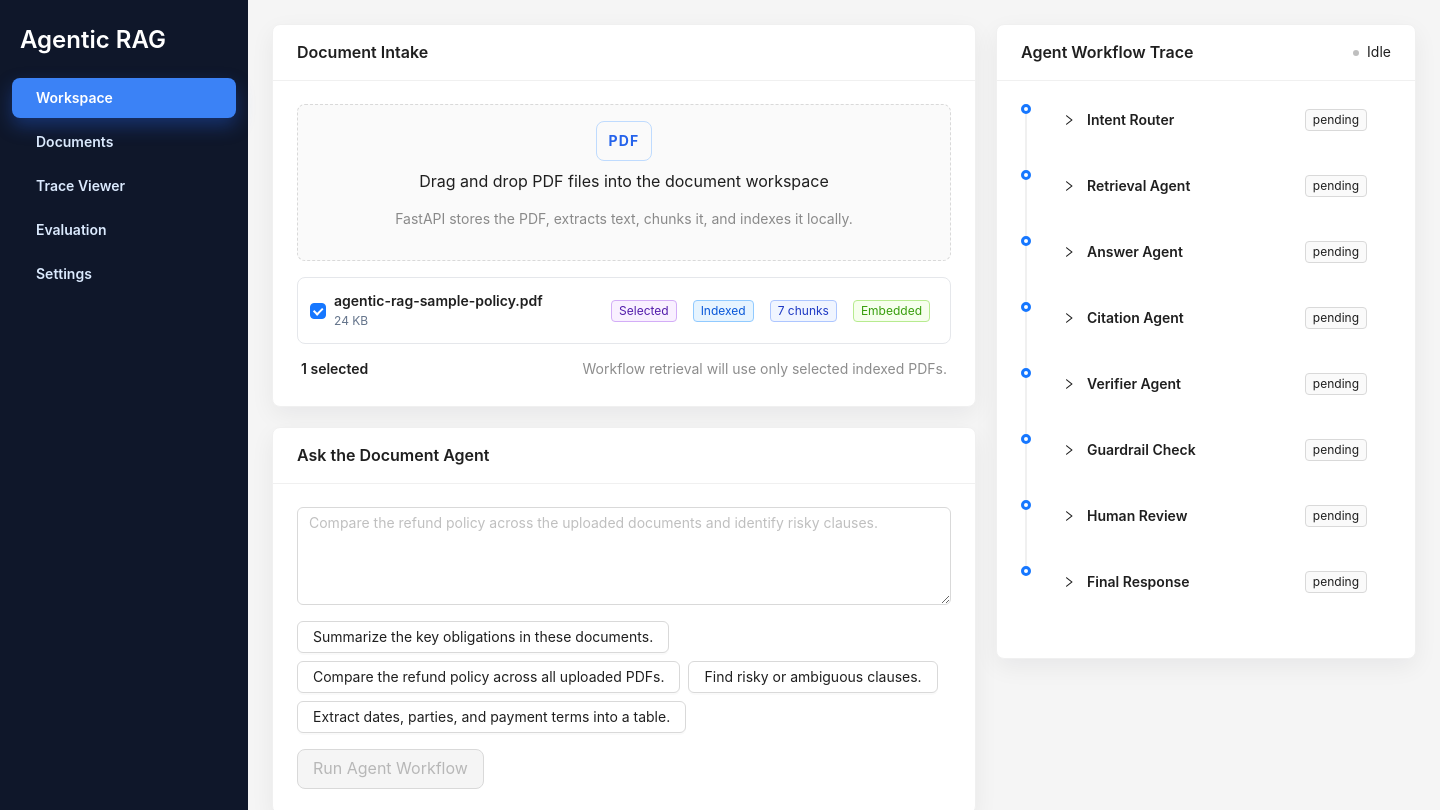
Test: shows a failed workflow state when the agent run request fails
Expected: the text "agentic-rag-sample-policy.pdf" is shown, [334,292,543,309]
Replace the text in the text box with placeholder "Compare the refund policy" with "Find risky refund clauses": (624, 556) [297,507,951,605]
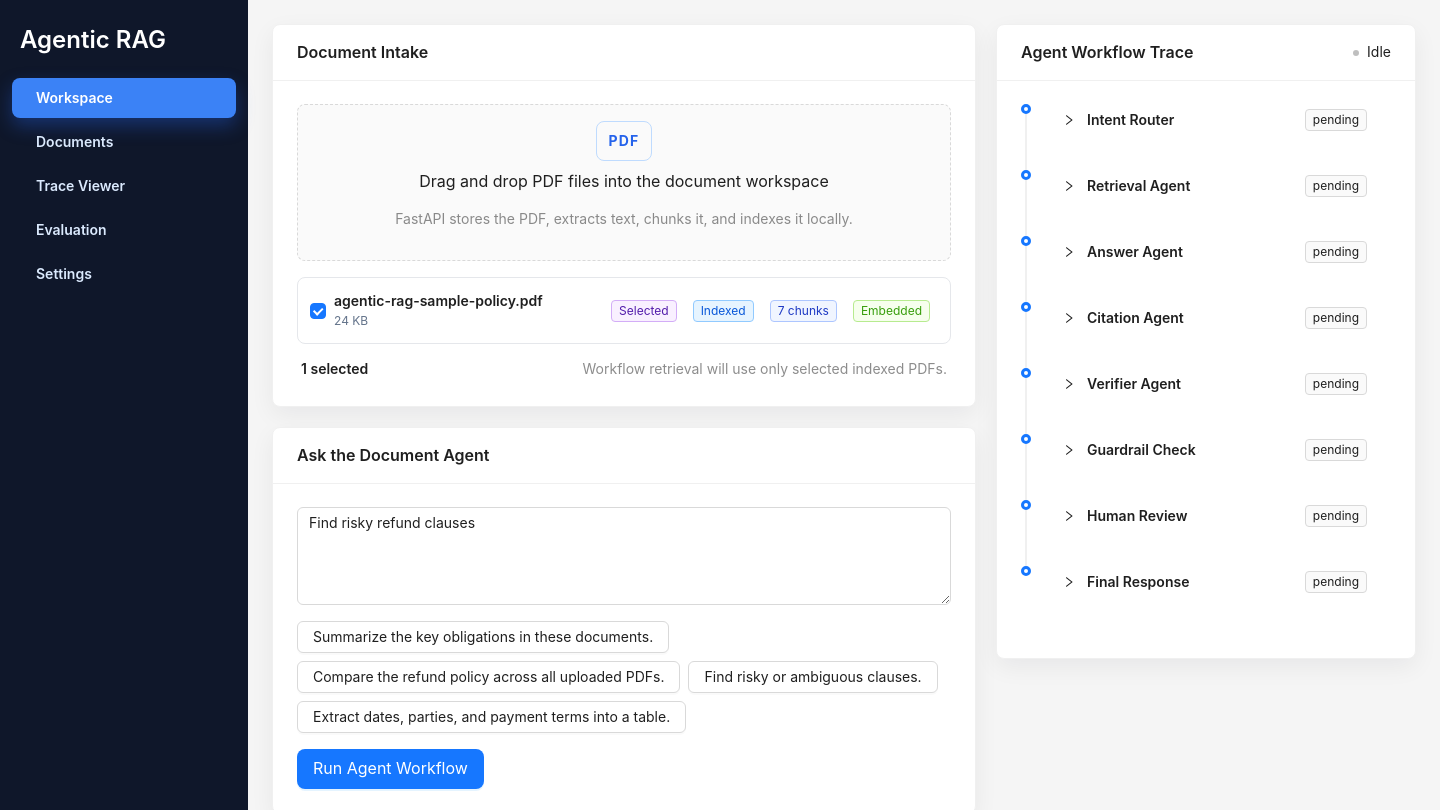
Click the button "Run Agent Workflow": (390, 769) [297,749,484,789]
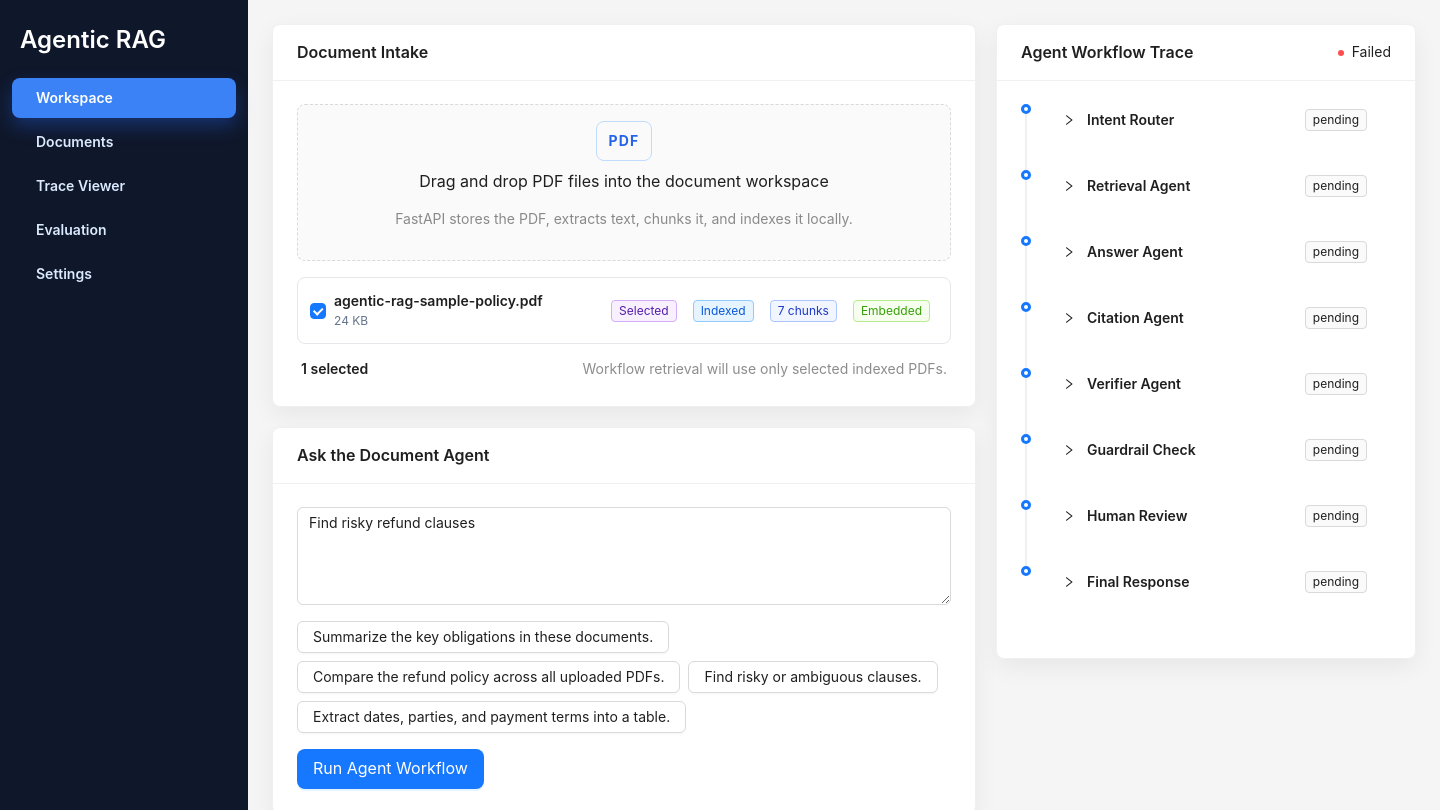
Expected: the text "Failed" is shown, [1352,44,1391,60]
